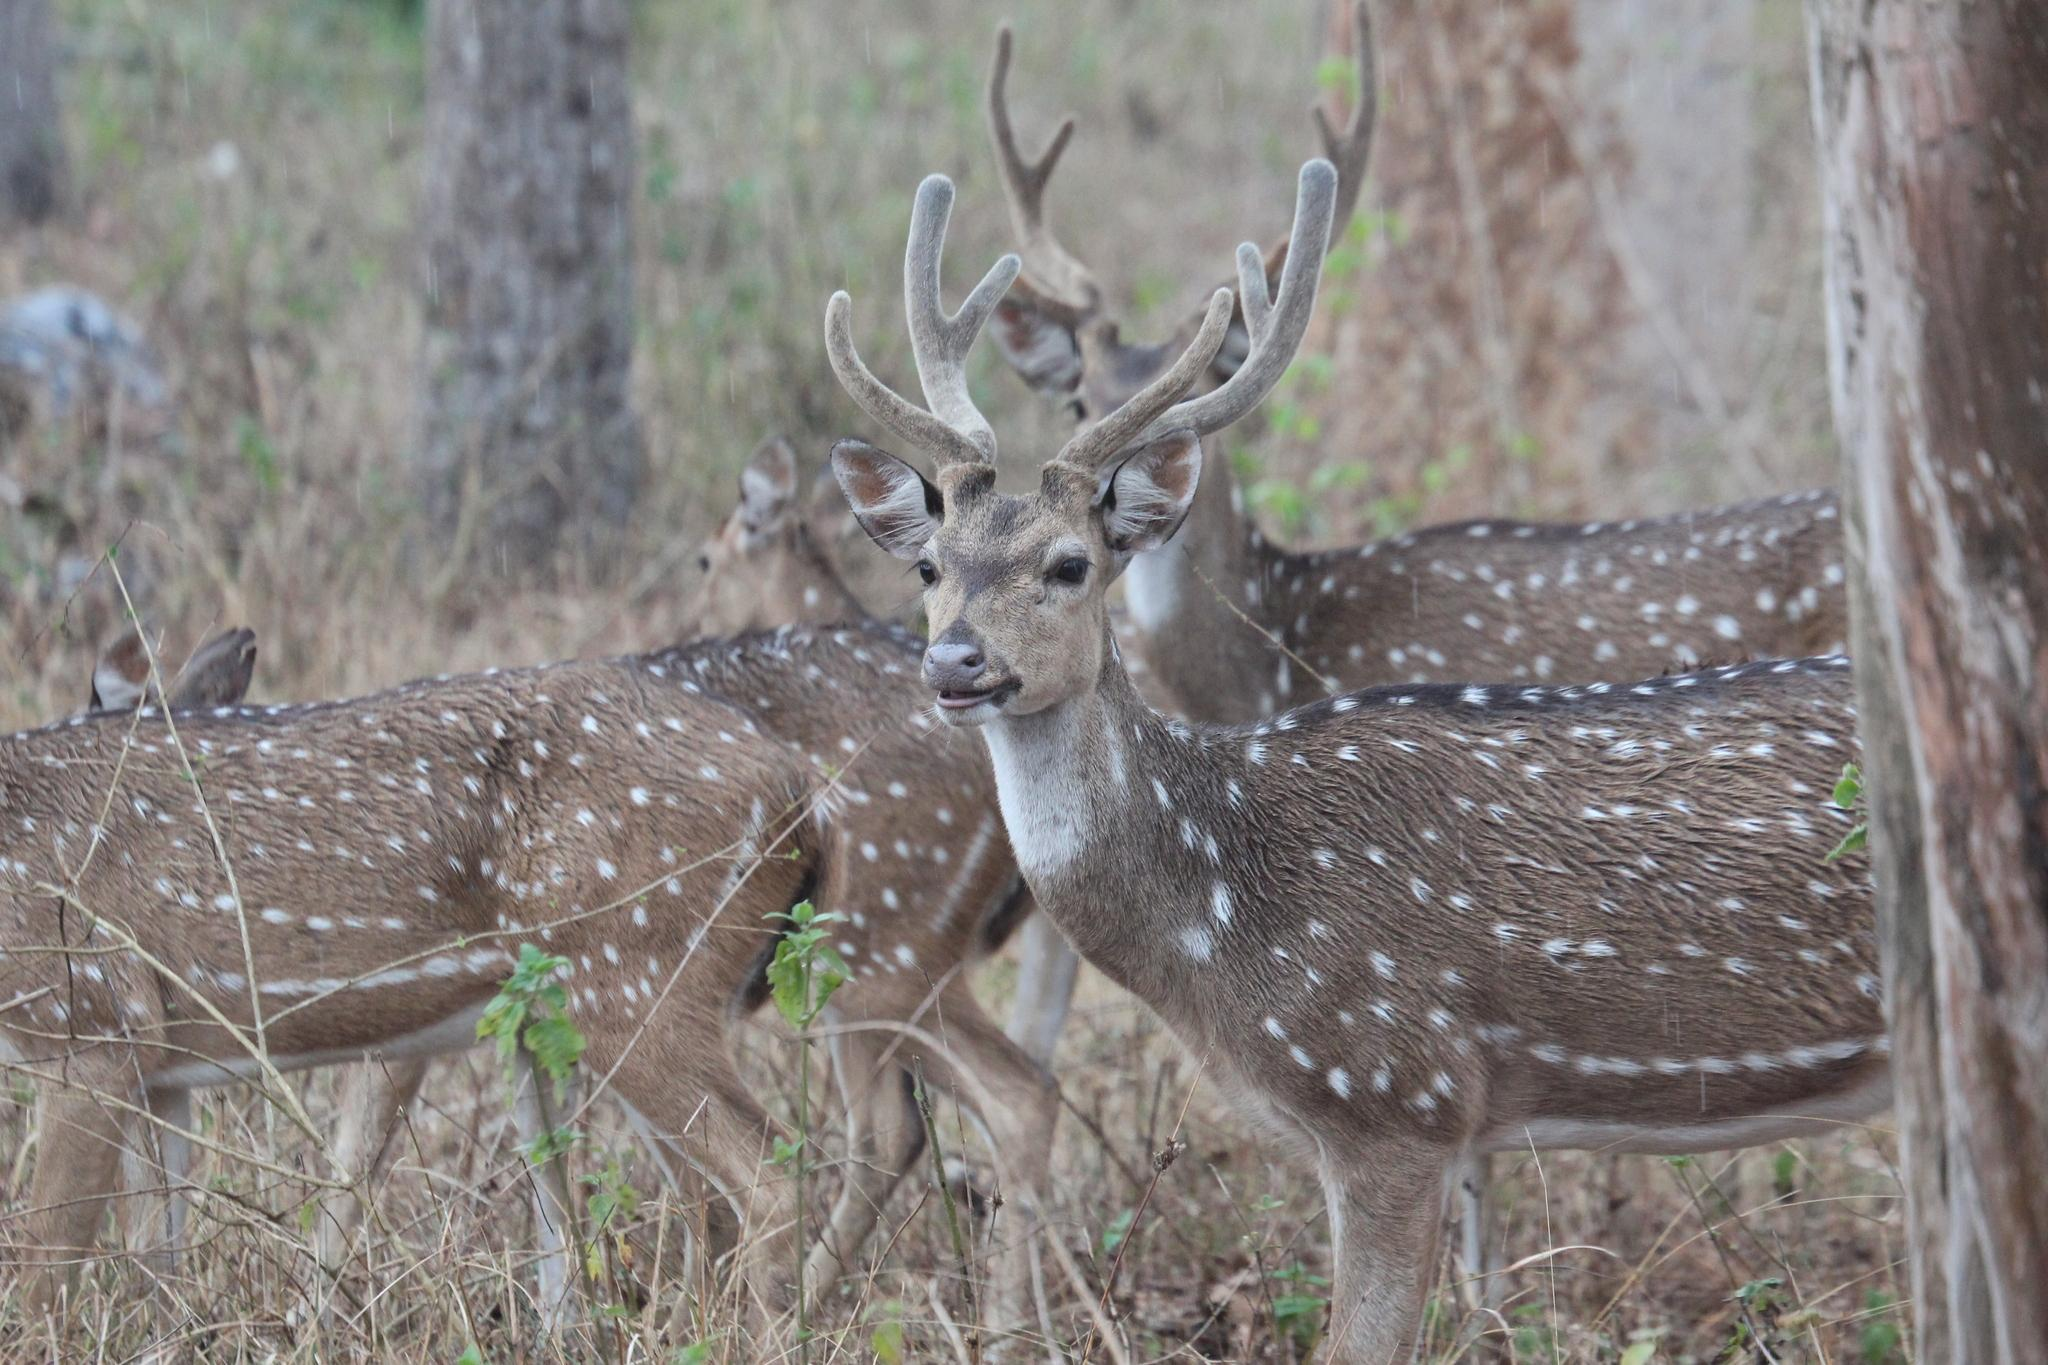Deer: (825, 160, 1888, 1360), (0, 666, 828, 1271)
